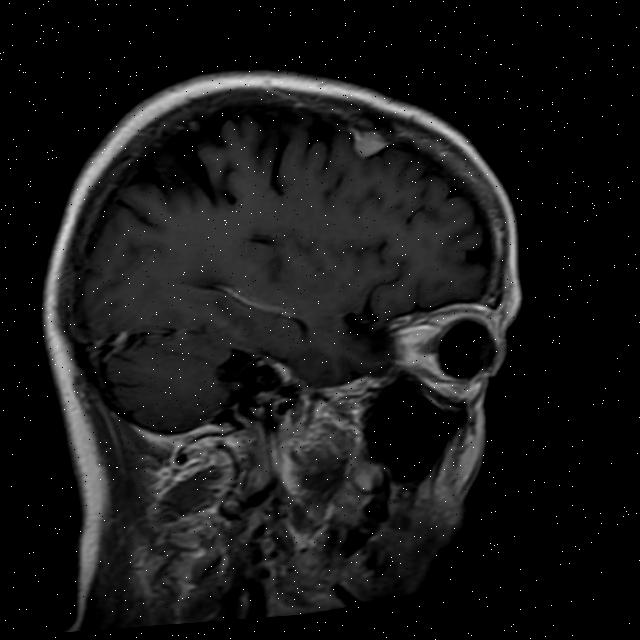Meningioma: (349, 124, 392, 162)
